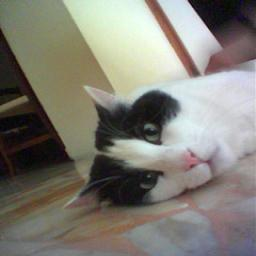catnose: (175, 146, 204, 174)
